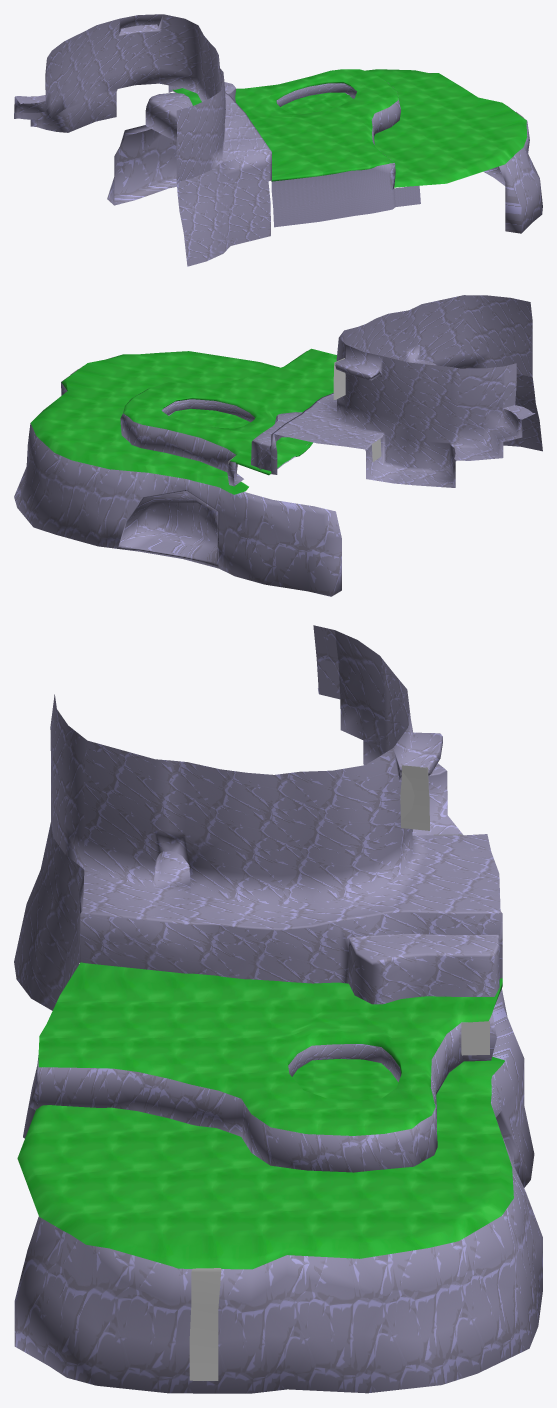
Rendered from model-mountain.fbx.
The picture shows the model from 3 angles, top to bottom: view 1: azimuth 30°, elevation 25°; view 2: azimuth 150°, elevation 25°; view 3: azimuth 270°, elevation 25°; orthographic projection. The views are drawn at different scales.
Visible parts, largest first — view 1: mountain1, polySurface5, polySurface8, polySurface4, polySurface2, templeGrass, polySurface7; view 2: mountain1, polySurface4, polySurface5, polySurface8, polySurface2, templeGrass, polySurface7; view 3: mountain1, polySurface4, polySurface5, polySurface8, polySurface2, templeGrass, polySurface3, polySurface7, vinesMountain1, vineslevel12.
Part boxes in pixels (<box>): mountain1: <box>14,14,271,266</box>; polySurface5: <box>348,69,527,187</box>; polySurface8: <box>173,69,398,181</box>; polySurface4: <box>107,73,542,233</box>; polySurface2: <box>271,83,420,227</box>; templeGrass: <box>280,92,352,113</box>; polySurface7: <box>276,83,356,106</box>; mountain1: <box>251,295,542,487</box>; polySurface4: <box>14,357,341,596</box>; polySurface5: <box>31,351,280,494</box>; polySurface8: <box>123,348,336,475</box>; polySurface2: <box>120,354,301,486</box>; templeGrass: <box>169,408,249,428</box>; polySurface7: <box>161,399,254,422</box>; mountain1: <box>14,625,502,1010</box>; polySurface4: <box>14,988,542,1393</box>; polySurface5: <box>17,1056,513,1269</box>; polySurface8: <box>38,962,502,1135</box>; polySurface2: <box>23,1014,496,1172</box>; templeGrass: <box>292,1059,398,1099</box>; polySurface3: <box>189,1268,221,1380</box>; polySurface7: <box>288,1044,401,1081</box>; vinesMountain1: <box>401,765,429,830</box>; vineslevel12: <box>461,1021,489,1055</box>.
Bounding box in the file's own units: 1315 × 570 × 709.
